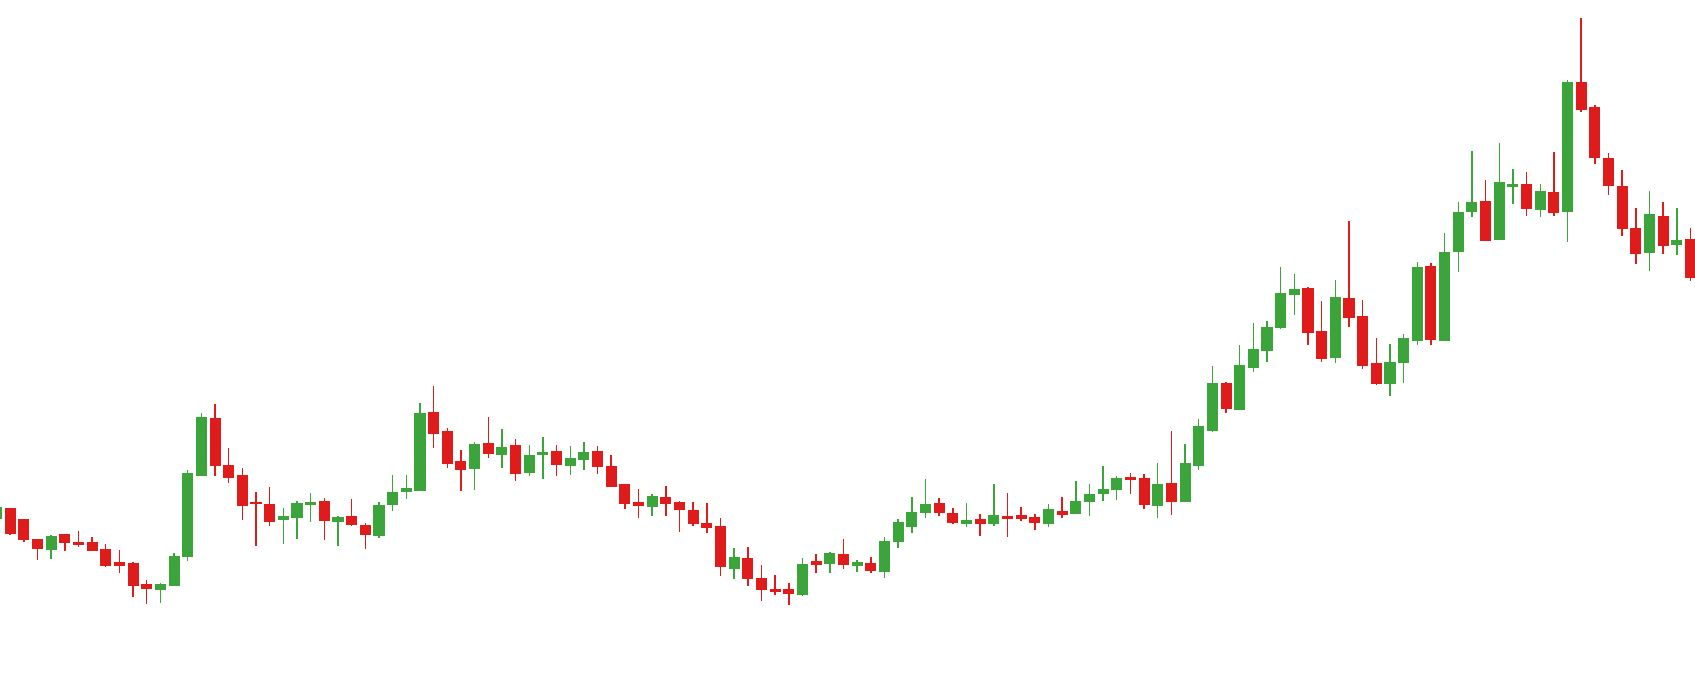buy: (1314, 304, 1411, 395)
sell: (1492, 17, 1602, 193)
